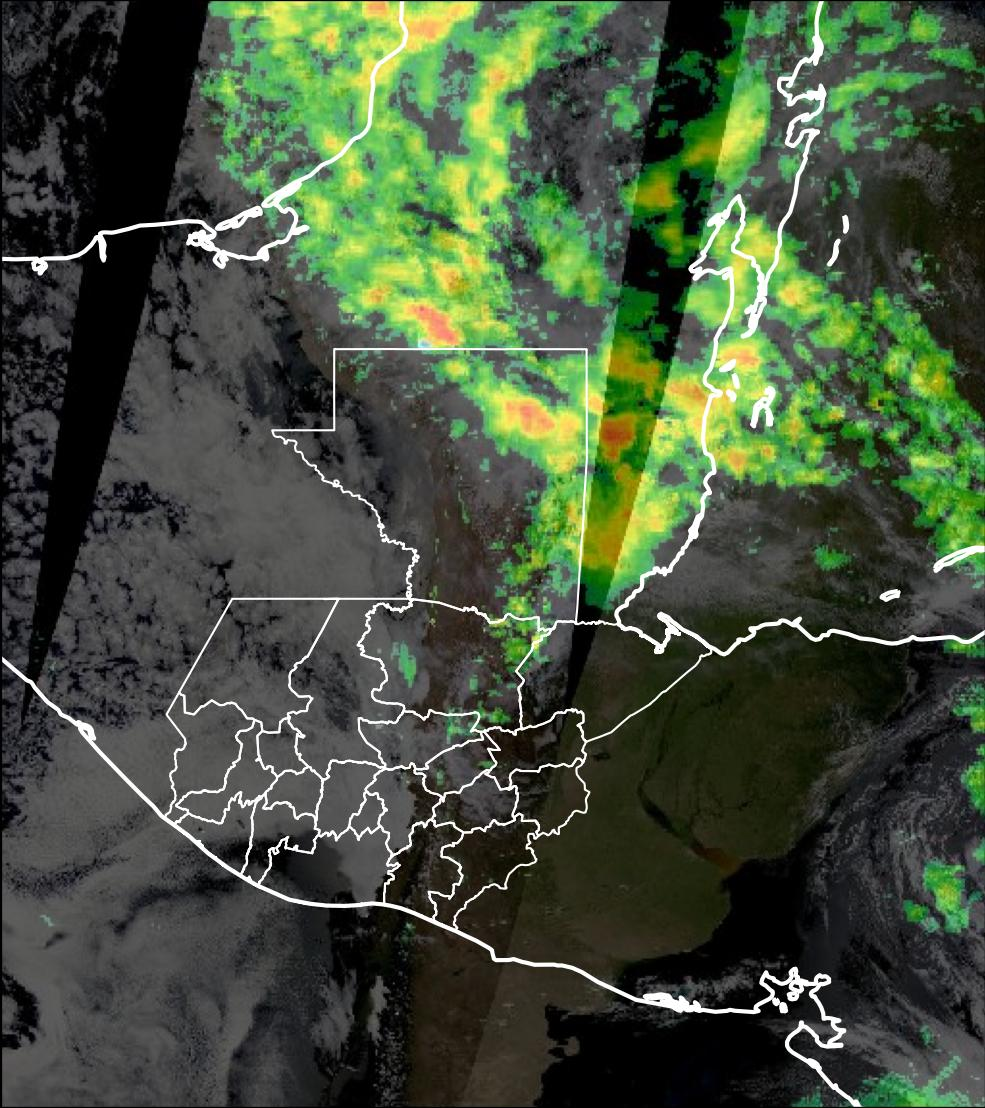precipitacion: (493, 383, 585, 479), (392, 288, 482, 352)
